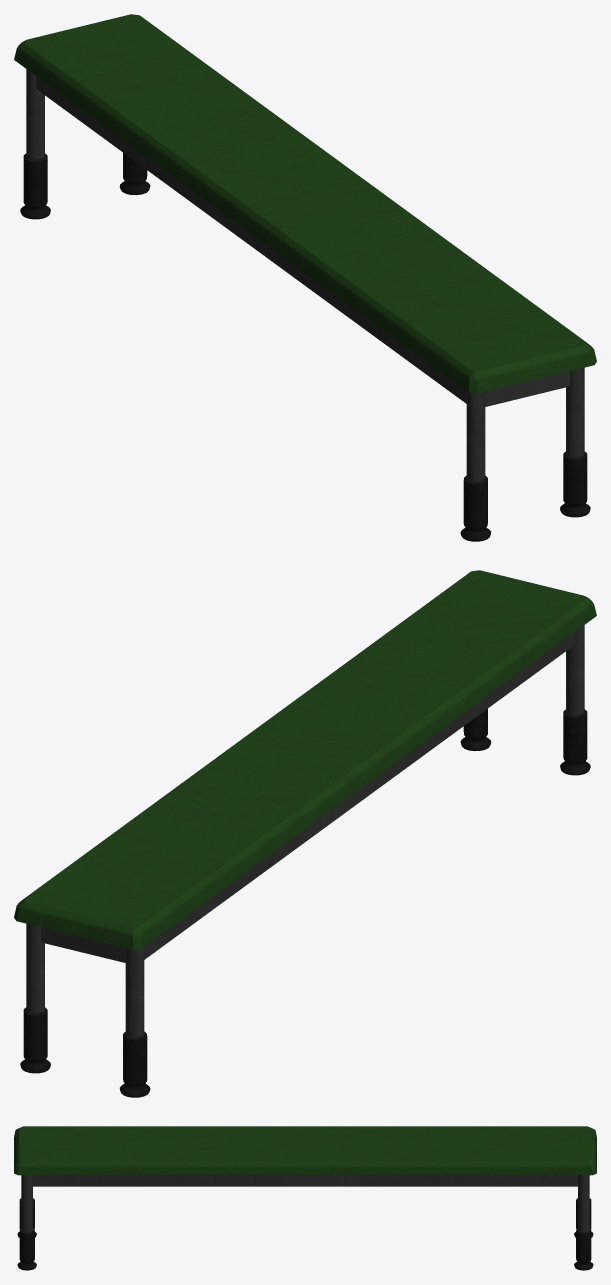
The model's file is canteen chair.fbx.
3 views of the same model, one above another, from view 1: azimuth 30°, elevation 25°; view 2: azimuth 150°, elevation 25°; view 3: azimuth 270°, elevation 25° (orthographic). The views are drawn at different scales.
Parts seen in each view (by area): view 1: canteen_chair6, pCube619, pCylinder62, pCylinder59, pCylinder64, pCube617, pCylinder63; view 2: canteen_chair6, pCube619, pCylinder64, pCylinder63, pCylinder62, pCube621, pCylinder59; view 3: canteen_chair6, pCube620, pCylinder59, pCylinder63.
Boxes of the visible parts, box(x1,y1,x2,y2) form: canteen_chair6: box(14, 14, 596, 393); pCube619: box(36, 76, 466, 403); pCylinder62: box(460, 391, 491, 541); pCylinder59: box(560, 367, 590, 517); pCylinder64: box(20, 69, 50, 219); pCube617: box(485, 371, 569, 406); pCylinder63: box(119, 153, 150, 195); canteen_chair6: box(14, 570, 596, 949); pCube619: box(144, 632, 574, 959); pCylinder64: box(119, 947, 150, 1097); pCylinder63: box(20, 923, 50, 1073); pCylinder62: box(560, 625, 590, 775); pCube621: box(41, 927, 125, 962); pCylinder59: box(460, 709, 491, 751); canteen_chair6: box(14, 1126, 596, 1175); pCube620: box(32, 1175, 578, 1186); pCylinder59: box(17, 1175, 36, 1270); pCylinder63: box(574, 1175, 593, 1270).
Bounding box in the file's own units: 53.37 × 67.51 × 333.
